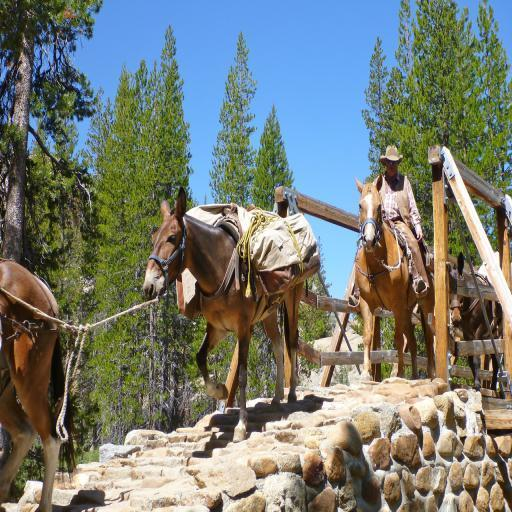horse: (352, 172, 434, 380)
